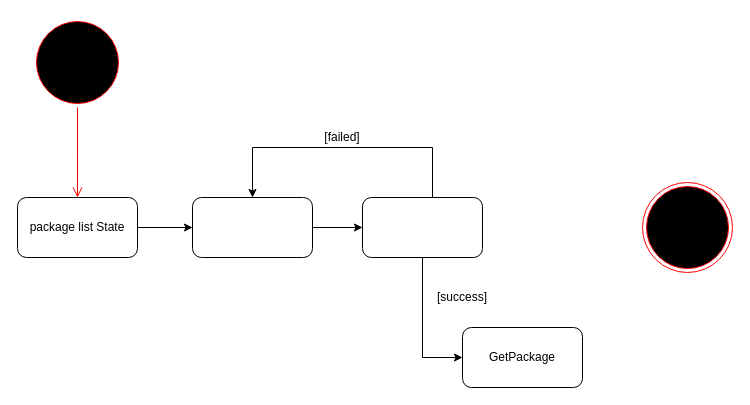
Image size: 750x405. Some labels were removed from this diagram. Here are the shapes that lost their labels. From the top down, the centre of each, then its label:
At (x=252, y=227): "Selection".
At (x=422, y=227): "purchase State(Bank)".
